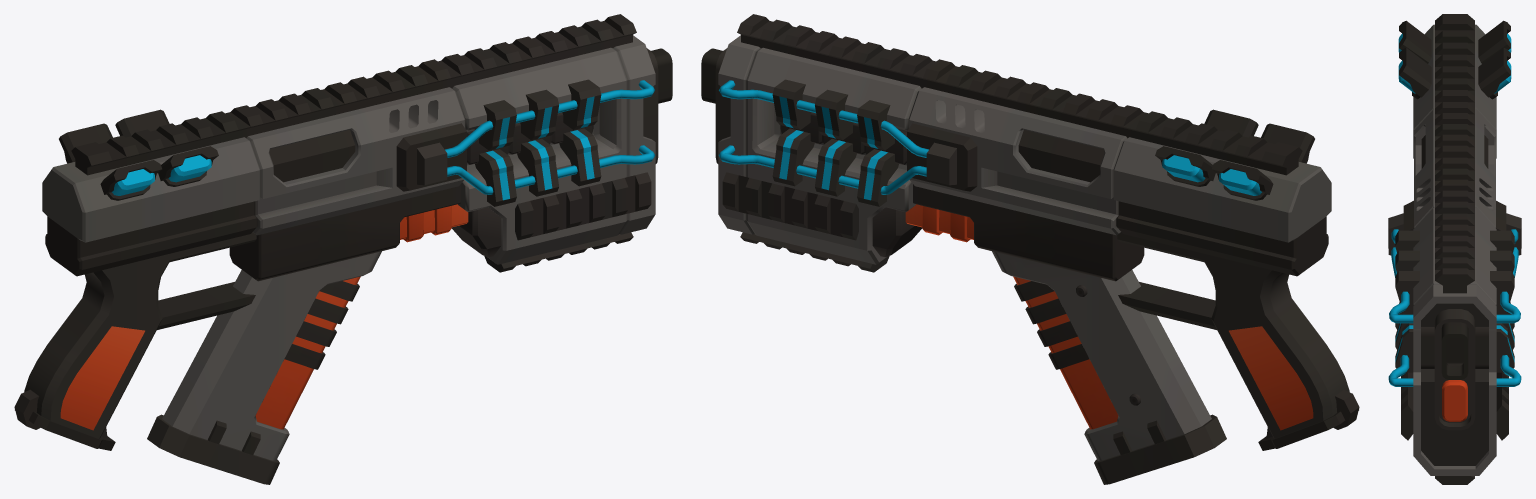
Rendered from SMG2_Base.fbx.
The picture shows the model from 3 angles, left to right: view 1: azimuth 30°, elevation 25°; view 2: azimuth 150°, elevation 25°; view 3: azimuth 270°, elevation 25°; orthographic projection. The views are drawn at different scales.
Visible parts, largest first — view 1: SMG2_Base; view 2: SMG2_Base; view 3: SMG2_Base.
Boxes of the visible parts, x1,y1,x2,y2 form: SMG2_Base: (14,14,672,484); SMG2_Base: (701,14,1359,484); SMG2_Base: (1388,14,1521,484).
Bounding box in the file's own units: 48.1 × 26.26 × 8.76.
